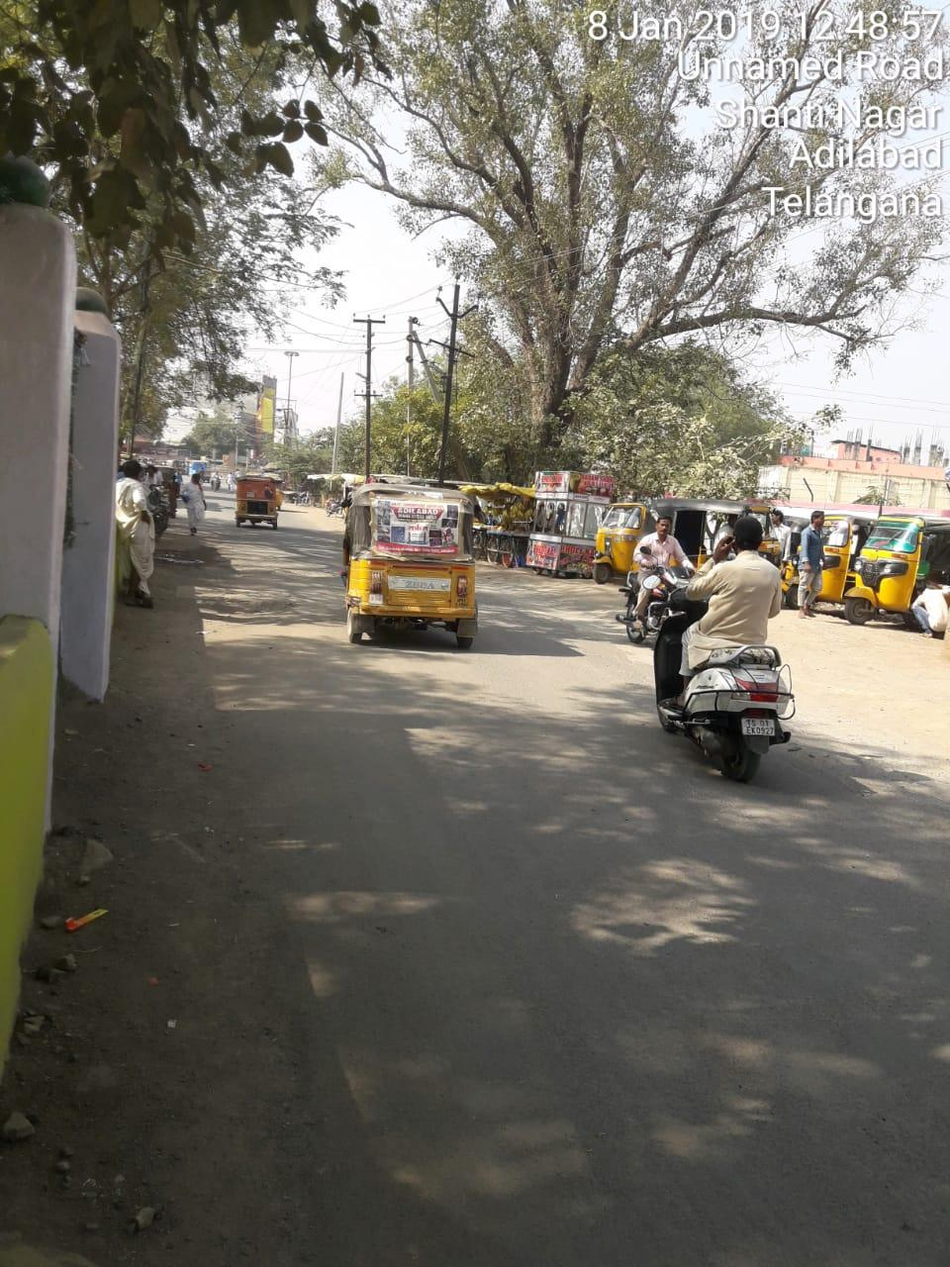plate: (732, 710, 785, 743)
